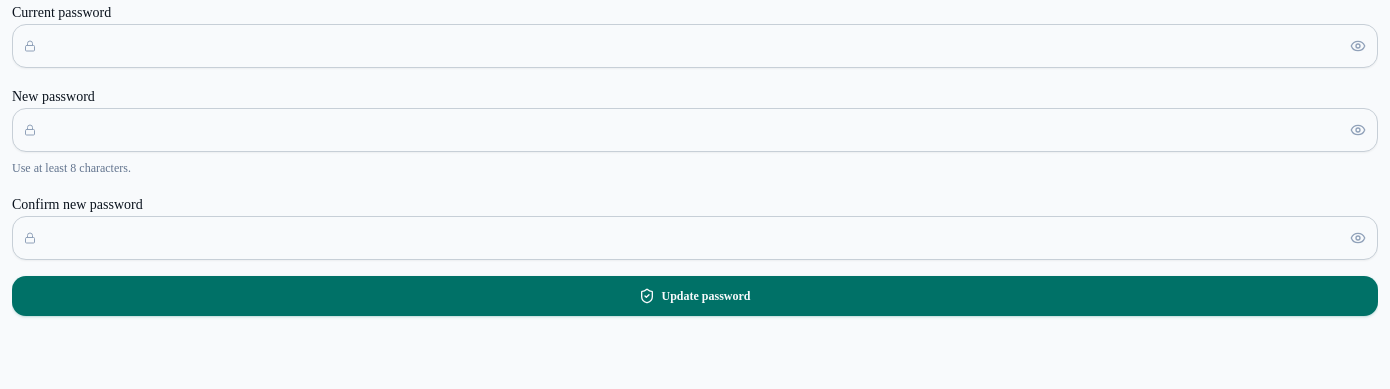
ChangePasswordForm › submits and shows the success message on a successful change
Type "old-password-123" into the password field labelled "Current password". click: (695, 46)
box: [12,24,1378,68]
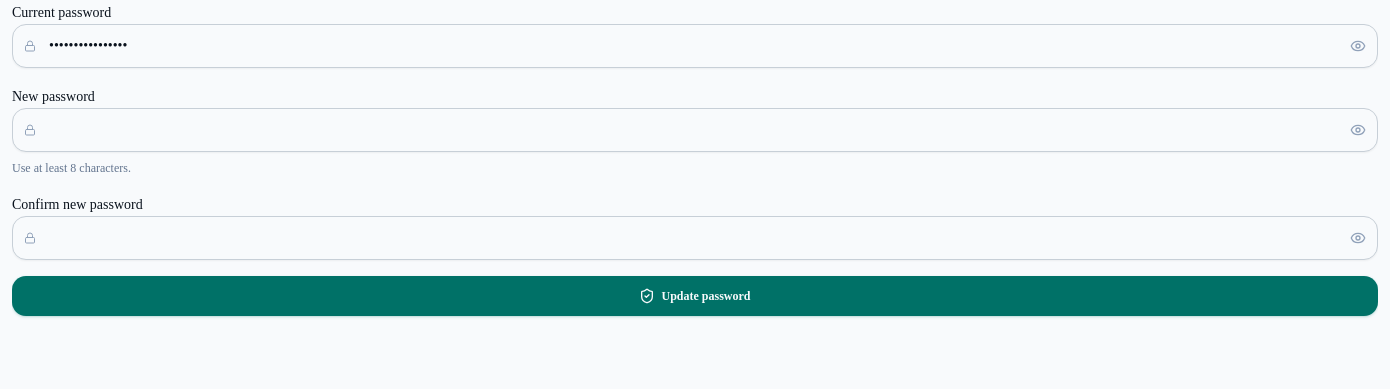
Type "new-password-456" into the password field labelled "New password". click: (695, 130)
box: [12,108,1378,152]
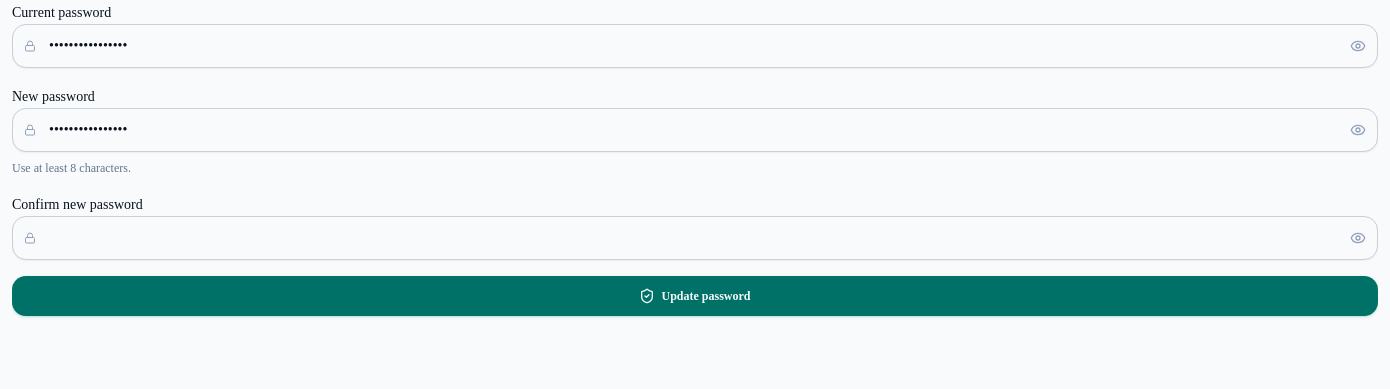
Type "new-password-456" into the password field labelled "Confirm new password". click: (695, 238)
box: [12,216,1378,260]
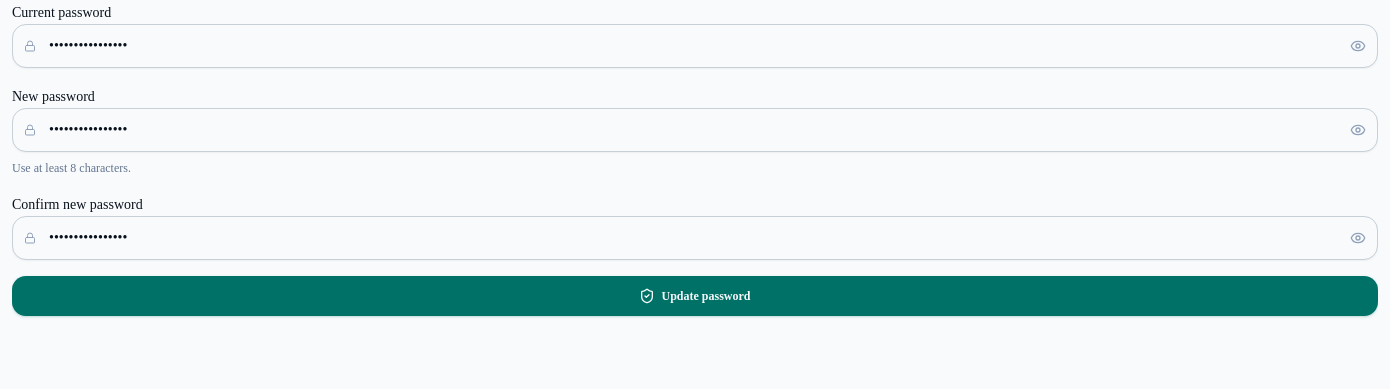
Click the button "Update password". click: (695, 296)
box: [12,276,1378,316]
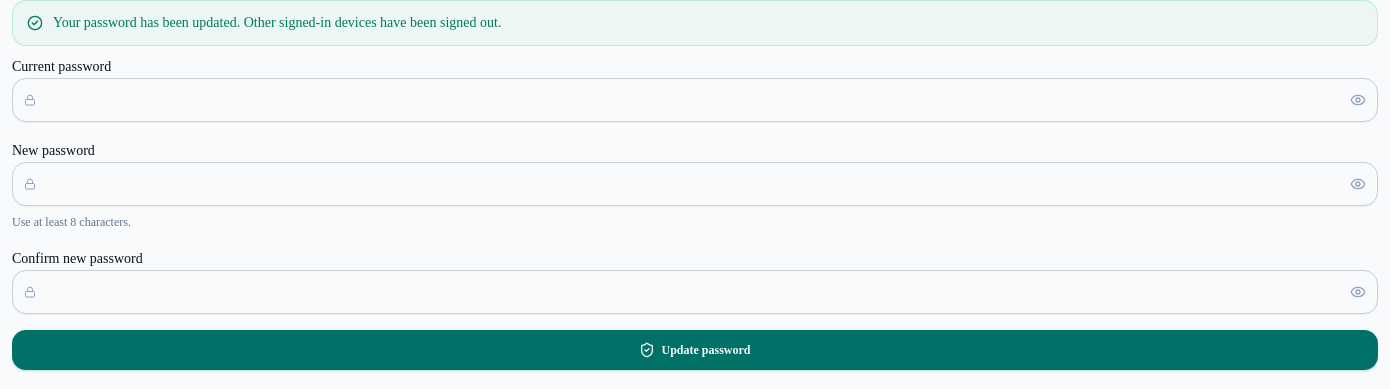
Result: the text "Your password has been updated" is shown at [53,15,501,30]
